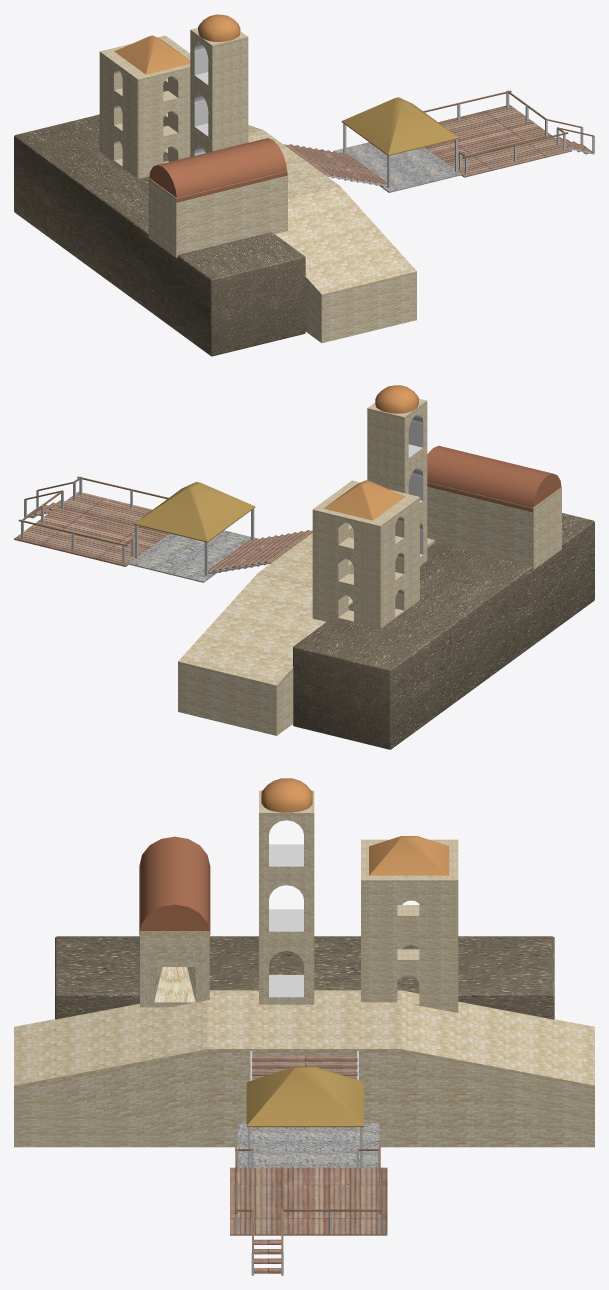
File: Religious_structure_side_1.fbx
The picture shows the model from 3 angles, top to bottom: view 1: azimuth 30°, elevation 25°; view 2: azimuth 150°, elevation 25°; view 3: azimuth 270°, elevation 25°; orthographic projection. The views are drawn at different scales.
Parts seen in each view (by area): view 1: Wall, Wall_1, Cylinder, Boole_2, Platform, Platform_2, Platform_1, Tower_1, Tower_1_2, Wall_2, Platform_3, Sphere; view 2: Wall, Wall_1_2, Cylinder, Boole_2, Platform, Platform_2, Platform_1, Tower_1, Platform_3, Wall_2, Tower_1_2, Sphere (+1 smaller); view 3: Wall_1, Wall_1_2, Wall, Wall_2, Boole_2, Cylinder, Platform, Platform_2, Platform_1, Platform_3, Tower_1, Tower_1_2 (+5 smaller).
Boxes of the visible parts, <box> form: Wall: <box>14,114,305,356</box>; Wall_1: <box>275,186,416,343</box>; Cylinder: <box>148,138,287,257</box>; Boole_2: <box>99,35,190,178</box>; Platform: <box>424,105,572,177</box>; Platform_2: <box>341,97,459,155</box>; Platform_1: <box>333,142,461,192</box>; Tower_1: <box>190,28,248,99</box>; Tower_1_2: <box>190,82,248,150</box>; Wall_2: <box>248,130,339,198</box>; Platform_3: <box>114,35,190,74</box>; Sphere: <box>198,14,240,41</box>; Wall: <box>293,513,594,749</box>; Wall_1_2: <box>178,574,353,735</box>; Cylinder: <box>427,445,561,569</box>; Boole_2: <box>312,480,419,628</box>; Platform: <box>14,491,169,566</box>; Platform_2: <box>134,482,255,542</box>; Platform_1: <box>129,530,259,582</box>; Tower_1: <box>367,399,427,472</box>; Platform_3: <box>324,480,405,520</box>; Wall_2: <box>257,533,434,587</box>; Tower_1_2: <box>367,454,427,514</box>; Sphere: <box>375,385,418,413</box>; Wall_1: <box>14,1000,208,1147</box>; Wall_1_2: <box>400,990,594,1147</box>; Wall: <box>55,936,554,1019</box>; Wall_2: <box>207,990,401,1147</box>; Boole_2: <box>361,839,458,1012</box>; Cylinder: <box>139,836,210,1007</box>; Platform: <box>230,1167,387,1235</box>; Platform_2: <box>246,1066,363,1127</box>; Platform_1: <box>238,1123,379,1167</box>; Platform_3: <box>369,836,449,875</box>; Tower_1: <box>259,790,314,880</box>; Tower_1_2: <box>259,877,314,945</box>.
Size of the model in its own units: 858 by 440 by 738.
